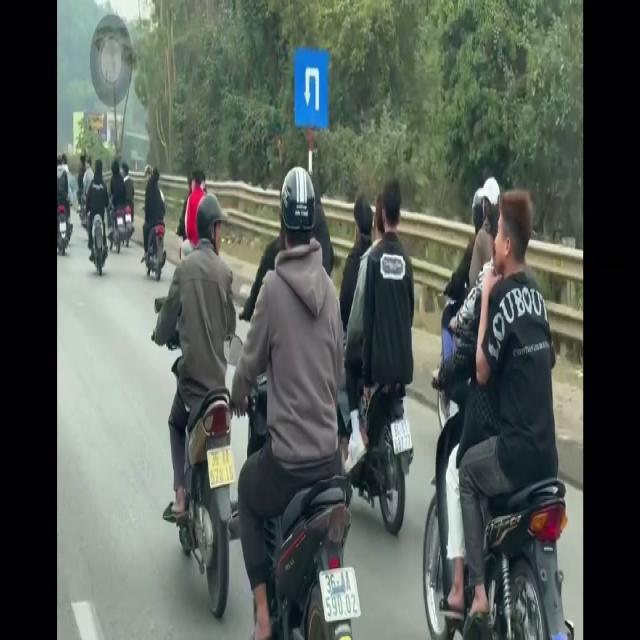helmet: (278, 160, 317, 274), (197, 190, 222, 259), (482, 174, 498, 232)
